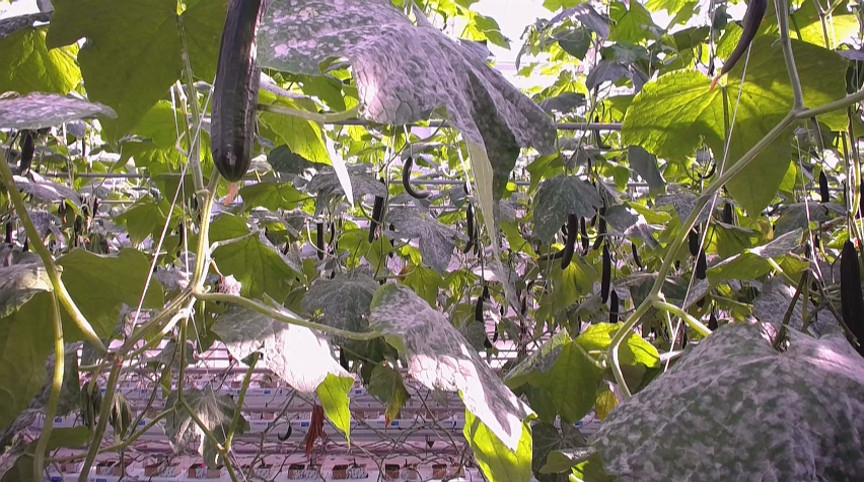cucumber: (211, 1, 277, 181), (838, 240, 864, 336), (562, 215, 579, 270), (600, 248, 613, 303)
